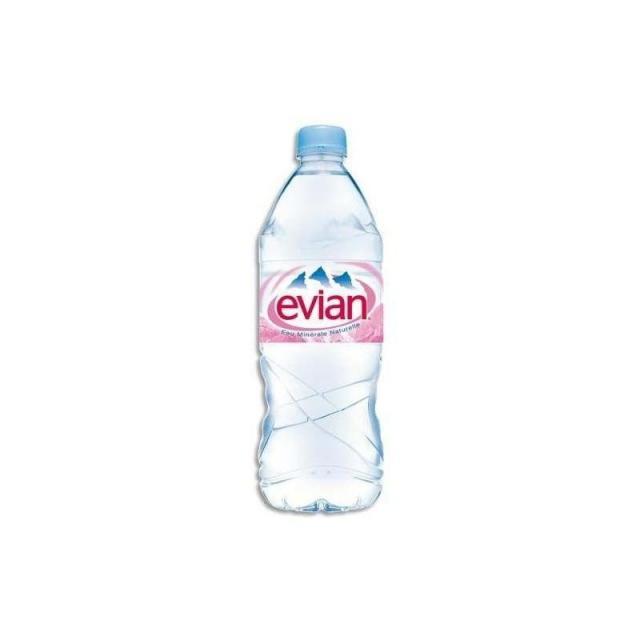plastic_bottle: (255, 125, 385, 510)
